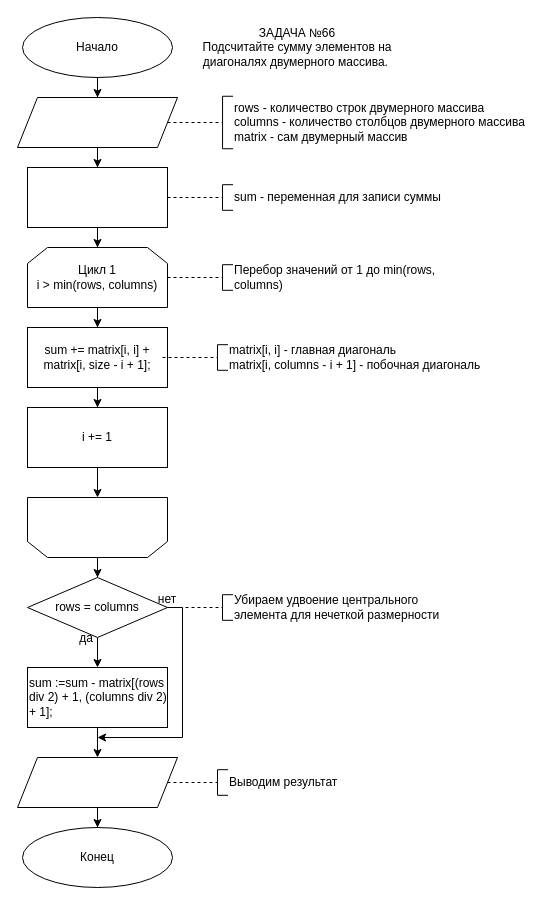
Some shapes in this 550 by 905 pixel diagram are drawn without their labels. The shapes that lost their labels are listed below. From the top down, each one's centre as x and y in pixels, then its label:
At point 97,122: "Ввод rows, columns и двухмерного массива matrix".
At point 97,197: "sum := 0; i := 1;".
At point 97,527: "Цикл 1".
At point 97,782: "Вывод sum".
